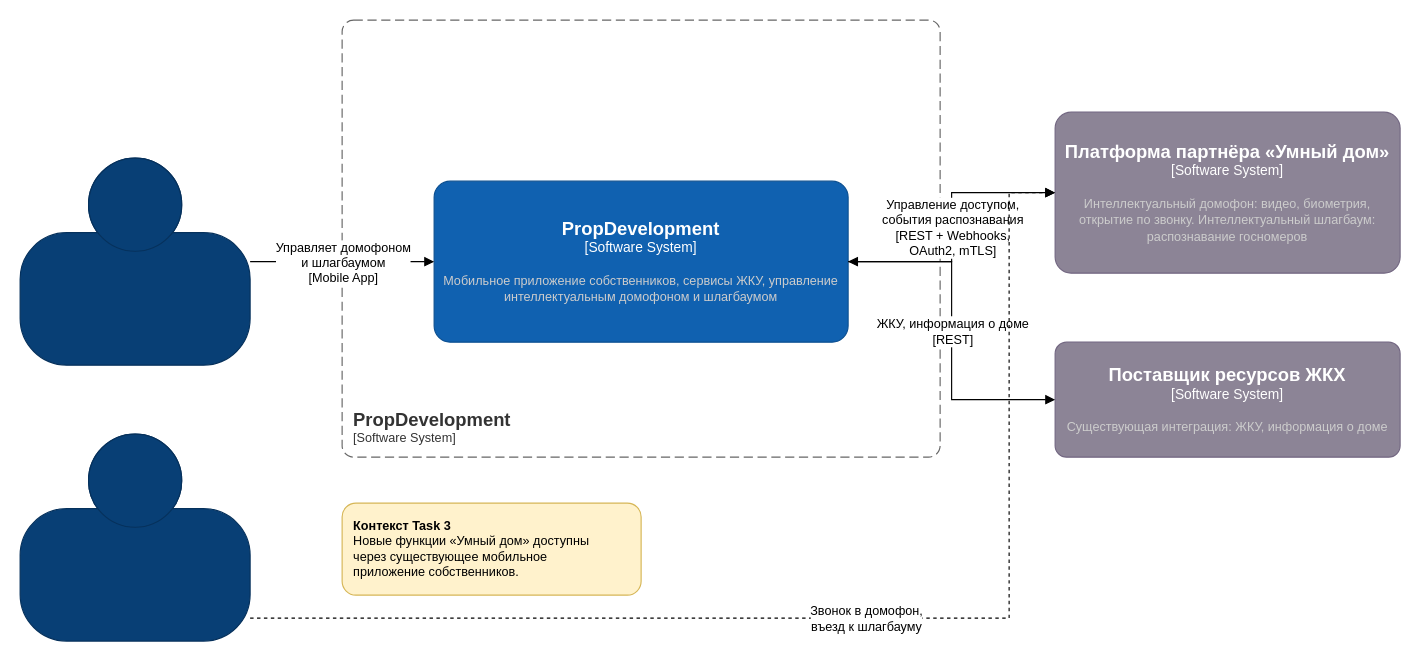
Some shapes in this 1420 by 661 pixel diagram are drawn without their labels. The centre of each missing label's shape, as x and y in pixels:
"Гость / посетитель [Person] Звонит в домофон, подъезжает к шлагбауму" goes at (134,537).
"Собственник [Person] Управляет домофоном и шлагбаумом через мобильное приложение" goes at (134,261).
